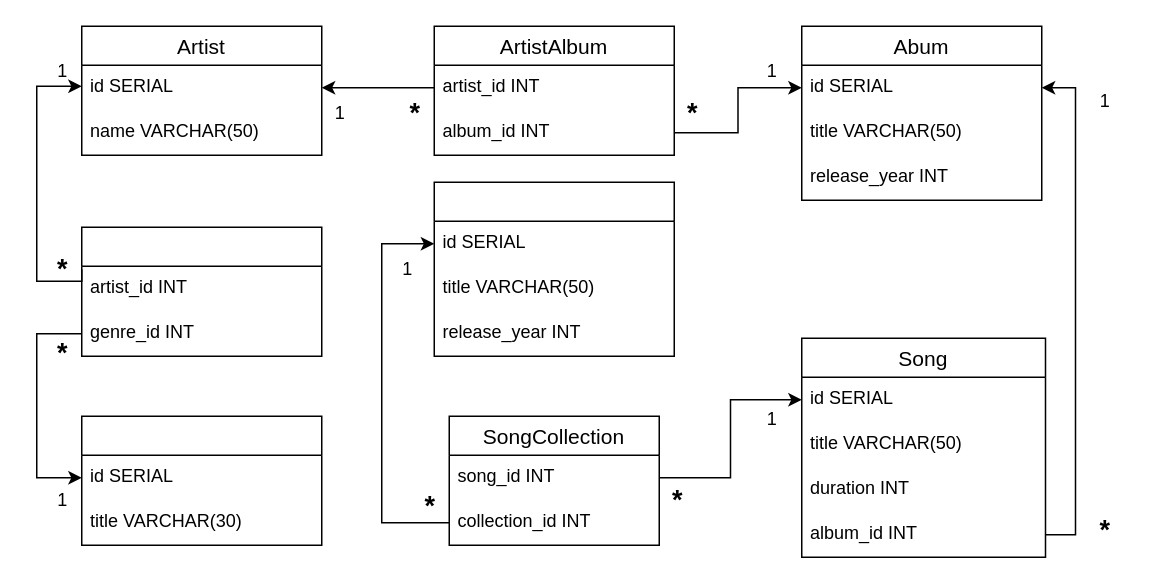
This 1151x588 diagram has some shape labels left out. Here are the shapes that lost their labels. From the top down, the box of each, then its label:
(433, 181, 674, 356): Collection
(80, 226, 322, 356): ArtistGenre
(80, 415, 322, 545): Genre
